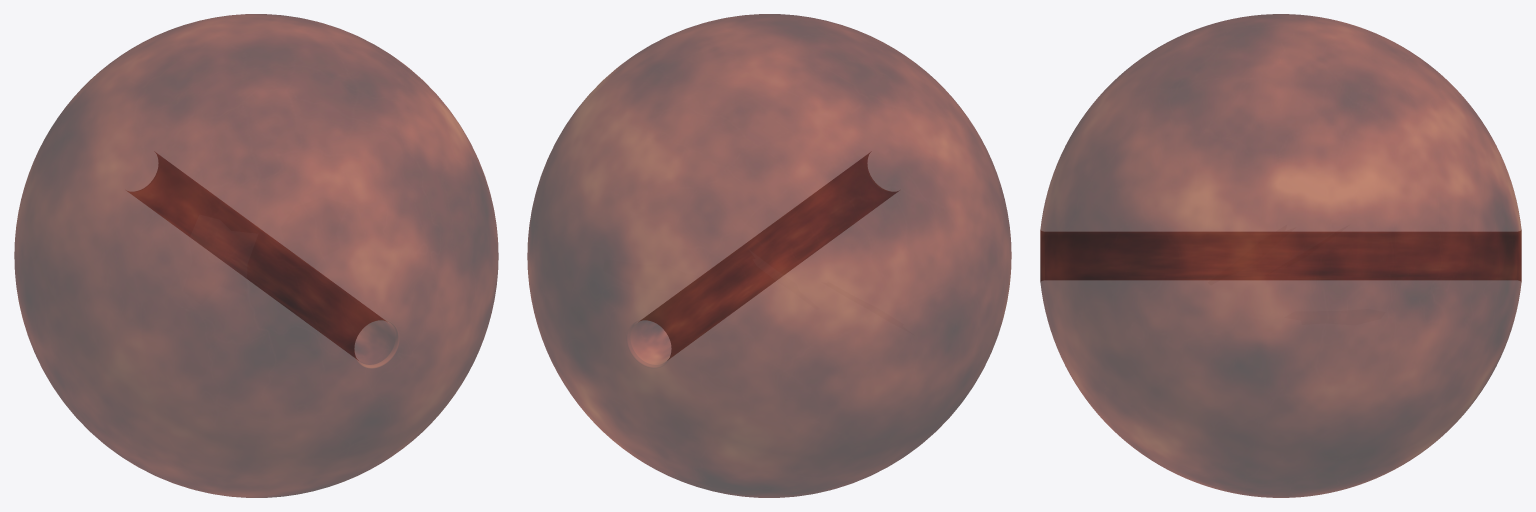
The model's file is hessonite-10mm.glb.
The picture shows the model from 3 angles, left to right: view 1: azimuth 30°, elevation 25°; view 2: azimuth 150°, elevation 25°; view 3: azimuth 270°, elevation 25°; orthographic projection.
Visible parts, largest first — view 1: hessonite.001; view 2: hessonite.001; view 3: hessonite.001.
Part boxes in pixels (bbox=[...]): hessonite.001: bbox=[14, 14, 498, 497]; hessonite.001: bbox=[527, 14, 1011, 497]; hessonite.001: bbox=[1040, 14, 1521, 497].
Size of the model in its own units: 0.01 by 0.01 by 0.00994.
Materials: 2 (1 with a texture image).
